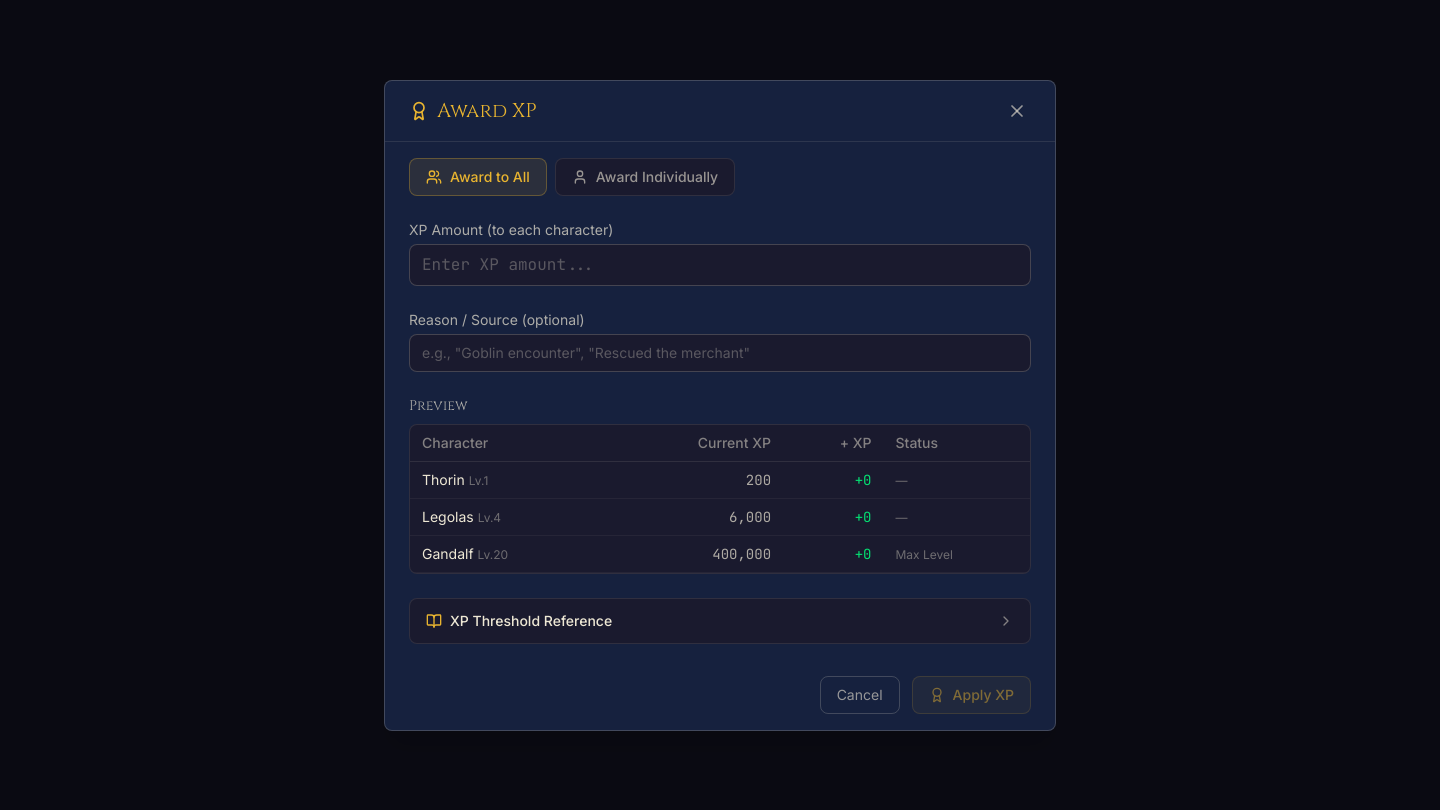
it: XPAward › should show individual XP inputs when in individual mode
The image size is (1440, 810).
Note: Switch to individual mode
Click the radio button with test id "mode-individual".
click(645, 176)  # box [555,158,735,196]
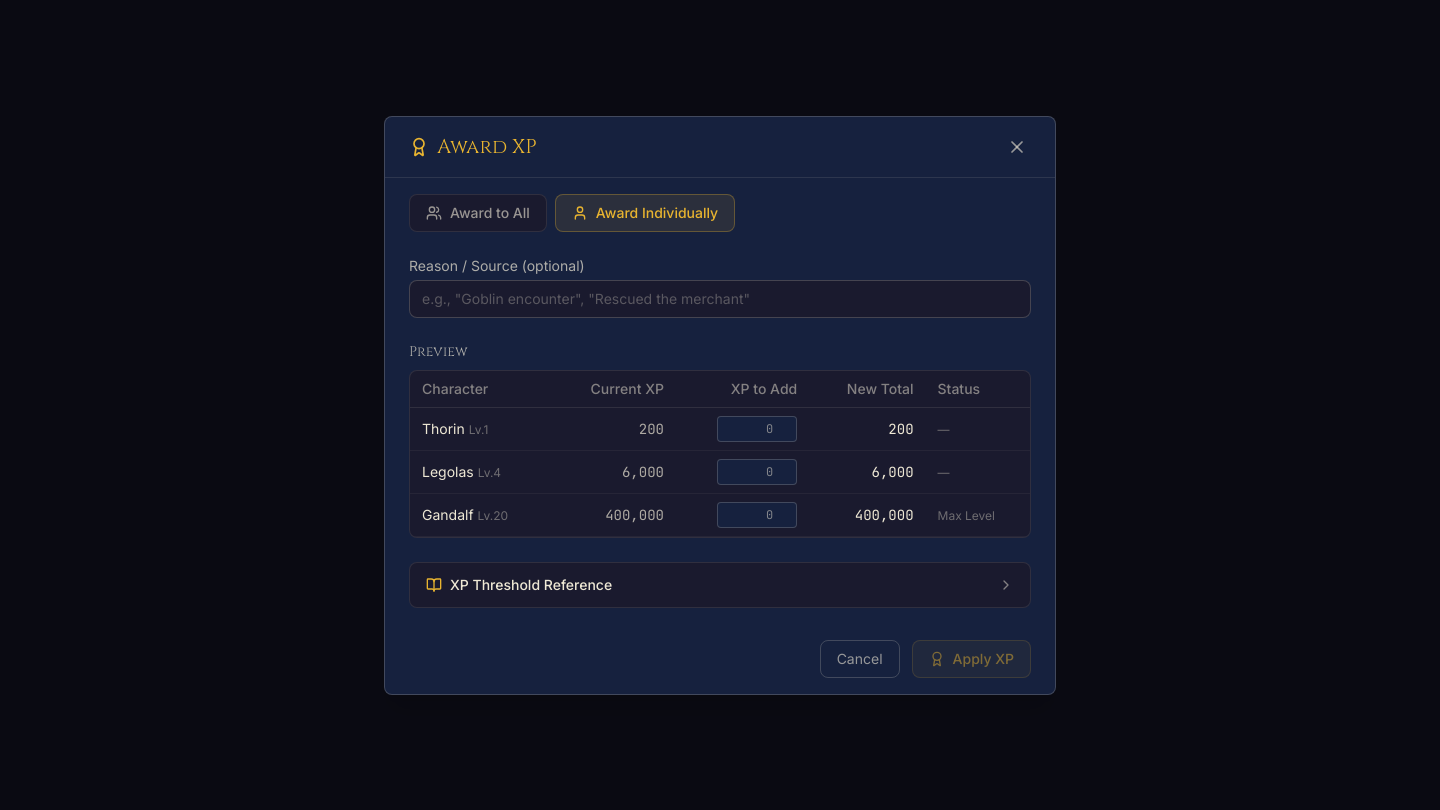
Now the number field with test id "individual-xp-c1" is shown, box [717,416,797,442]
Now the number field with test id "individual-xp-c2" is shown, box [717,458,797,484]
Now the number field with test id "individual-xp-c3" is shown, box [717,502,797,528]
